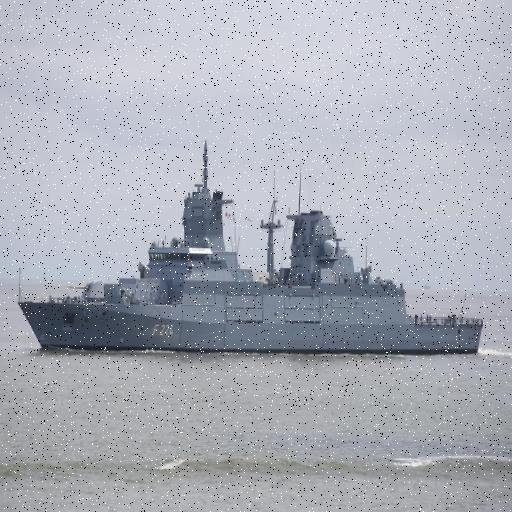Fragata: (10, 140, 489, 362)
